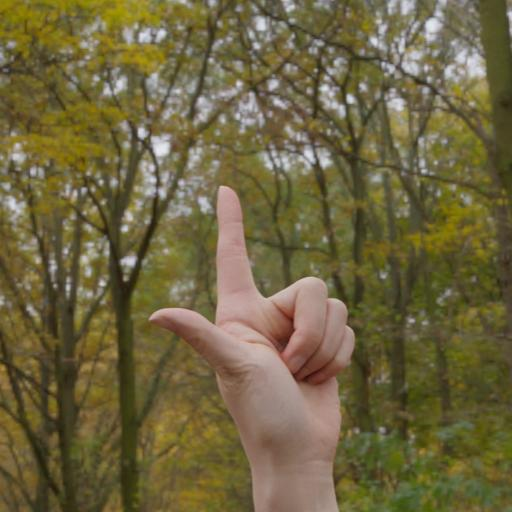L: (134, 175, 382, 495)
